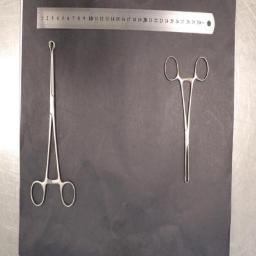Allis Tissue Forceps: (164, 54, 210, 184)
